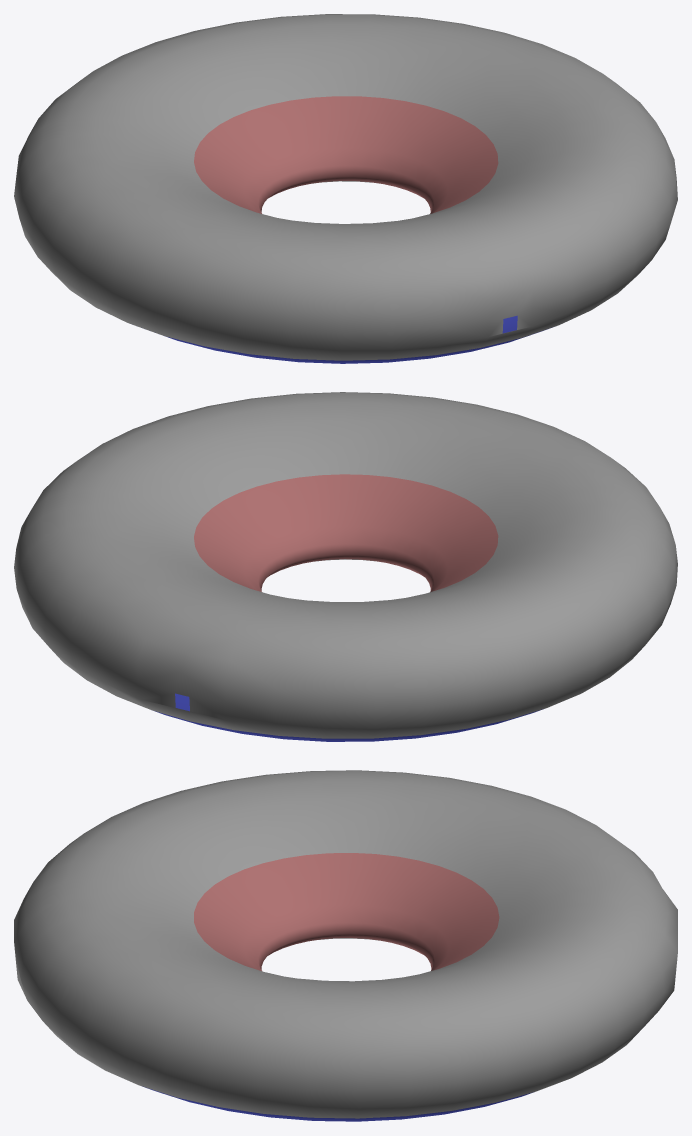
Rendered from Large Round Room Anti Grav.FBX.
3 renders of one model, top to bottom at view 1: azimuth 30°, elevation 25°; view 2: azimuth 150°, elevation 25°; view 3: azimuth 270°, elevation 25°, orthographic.
Parts seen in each view (by area): view 1: Torus002; view 2: Torus002; view 3: Torus002.
Boxes of the visible parts, box(x1,y1,x2,y2) form: Torus002: box(14, 14, 677, 363); Torus002: box(14, 392, 677, 741); Torus002: box(14, 770, 677, 1121).
Size of the model in its own units: 160 by 32.12 by 160.
